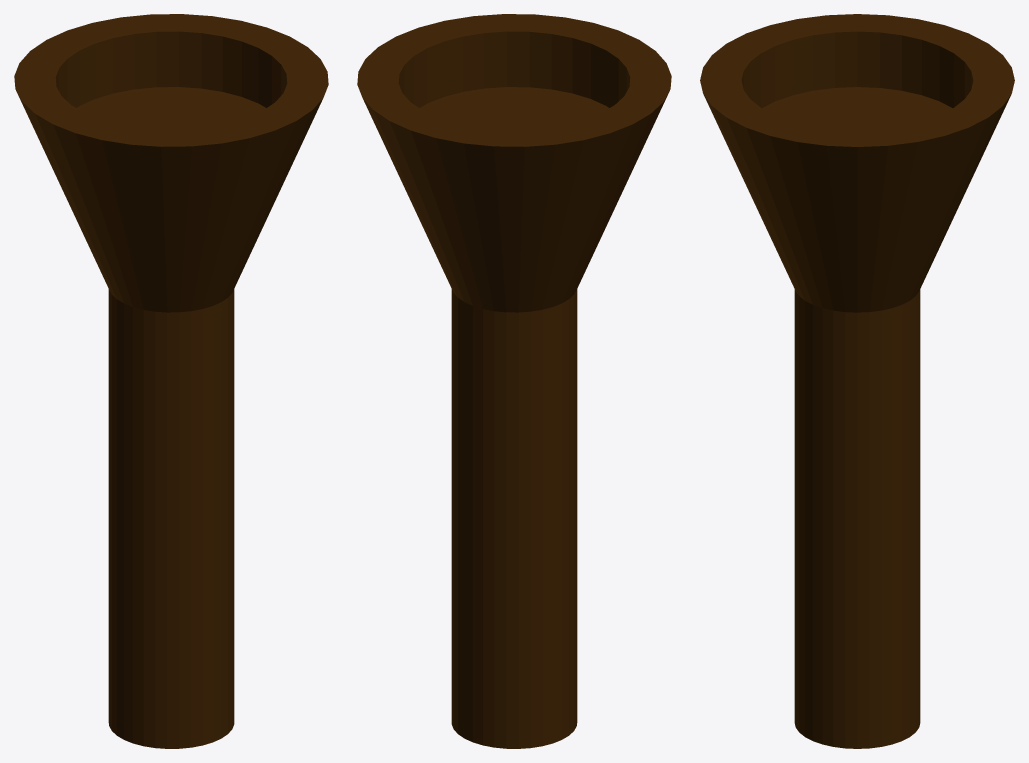
Rendered from torch.fbx.
The picture shows the model from 3 angles, left to right: view 1: azimuth 30°, elevation 25°; view 2: azimuth 150°, elevation 25°; view 3: azimuth 270°, elevation 25°; orthographic projection.
Parts seen in each view (by area): view 1: Cylinder; view 2: Cylinder; view 3: Cylinder.
Boxes of the visible parts, x1=… form: Cylinder: x1=14, y1=14, x2=328, y2=748; Cylinder: x1=357, y1=14, x2=671, y2=748; Cylinder: x1=700, y1=14, x2=1014, y2=748.
Bounding box in the file's own units: 100 × 225 × 100.
